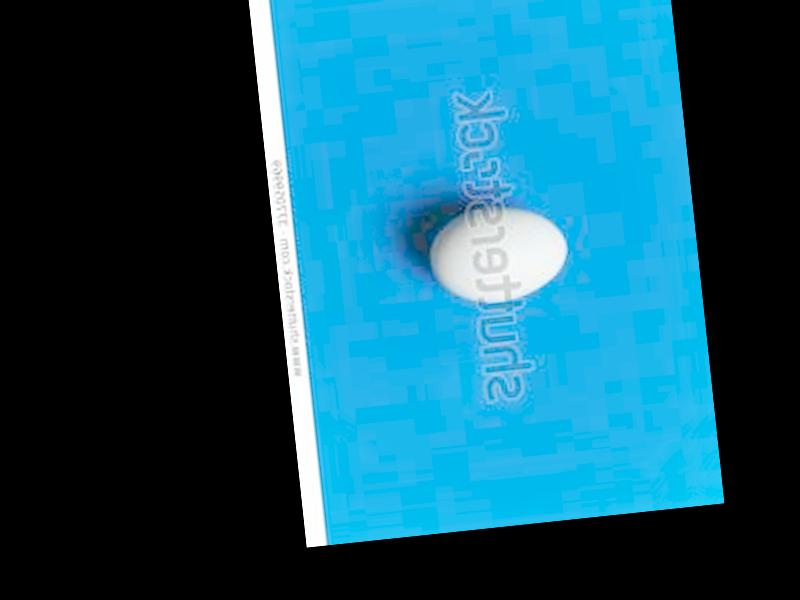Eggs: (426, 200, 575, 306)
